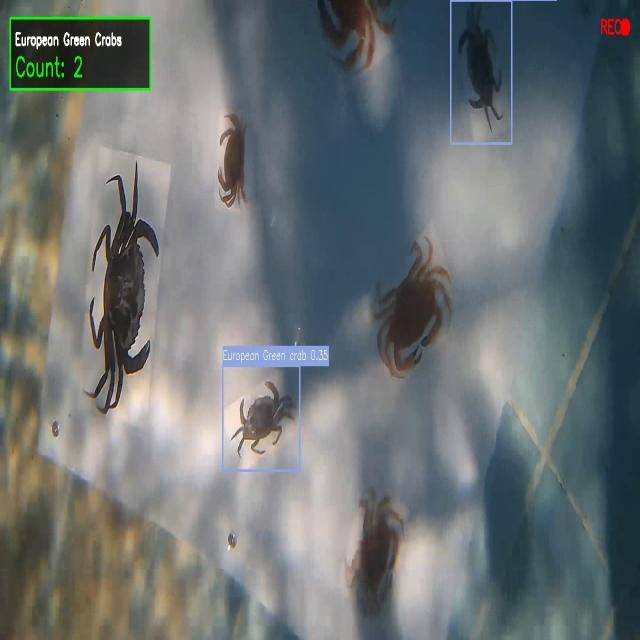European_Green_Crab: (65, 151, 173, 433), (223, 356, 303, 477), (454, 4, 519, 145)
